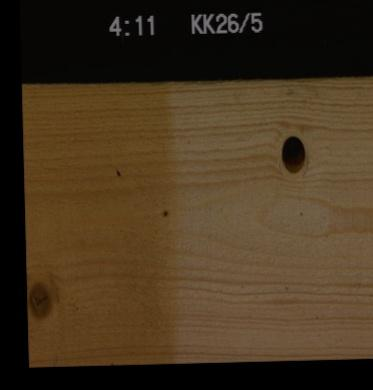small_knot: (159, 203, 171, 218)
sound_knot: (26, 276, 53, 321)
